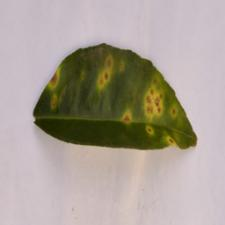Canker: (40, 52, 186, 150)
